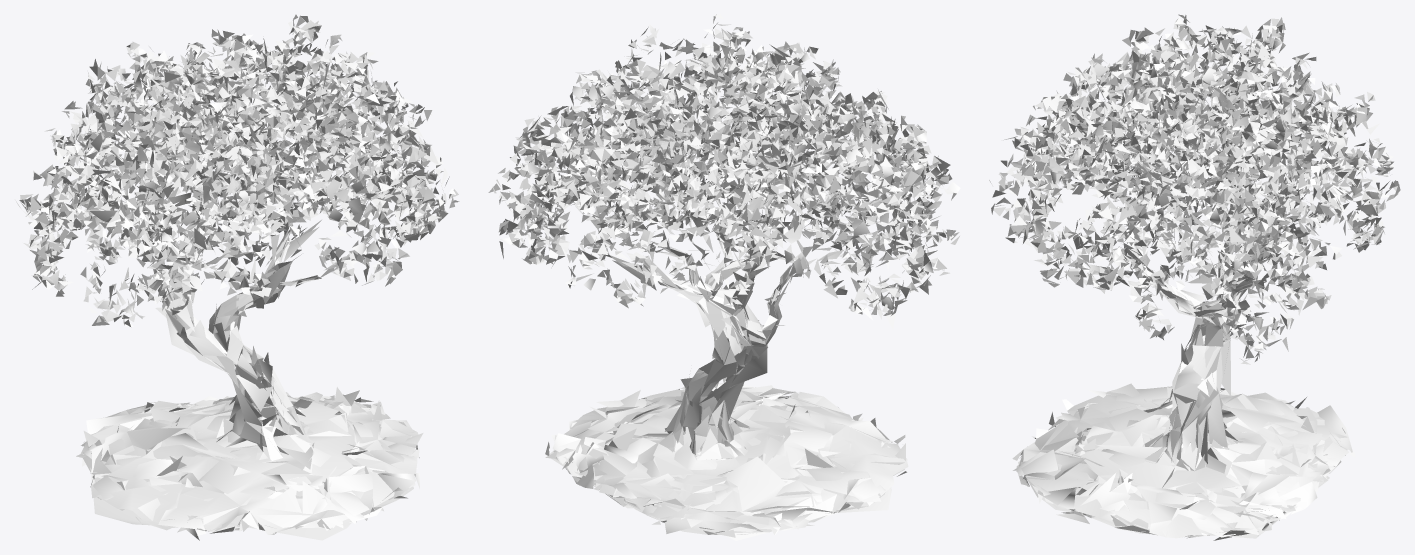
The model's file is sakura_young_lod2.glb.
3 renders of one model, left to right at view 1: azimuth 30°, elevation 25°; view 2: azimuth 150°, elevation 25°; view 3: azimuth 270°, elevation 25°, orthographic.
Visible parts, largest first — view 1: Mesh_0; view 2: Mesh_0; view 3: Mesh_0.
Boxes of the visible parts, x1,y1,x2,y2 form: Mesh_0: (15, 14, 459, 540); Mesh_0: (488, 14, 960, 540); Mesh_0: (989, 14, 1400, 540).
Bounding box in the file's own units: 5.68 × 5.6 × 4.79.
Materials: 1 (1 with a texture image).
